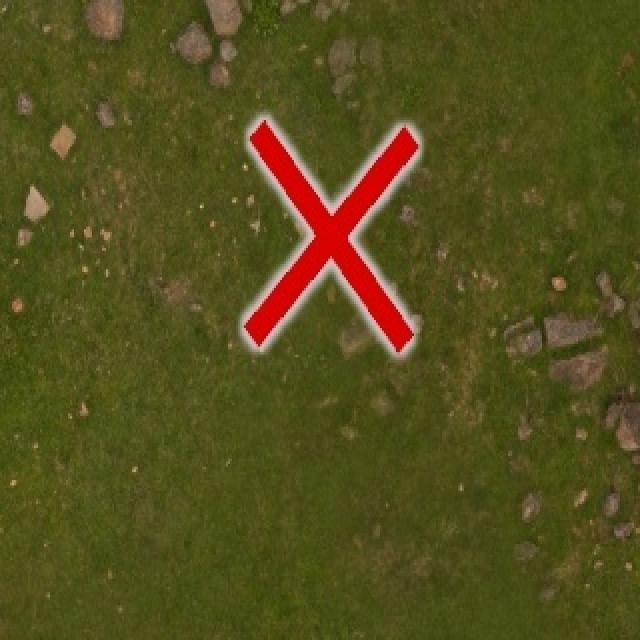x_marker: (243, 118, 417, 350)
